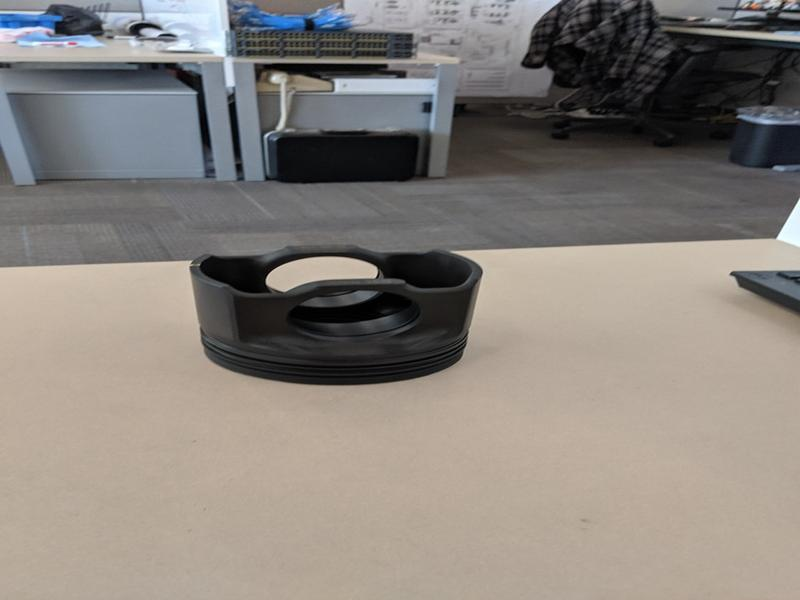piston: (187, 241, 486, 388)
